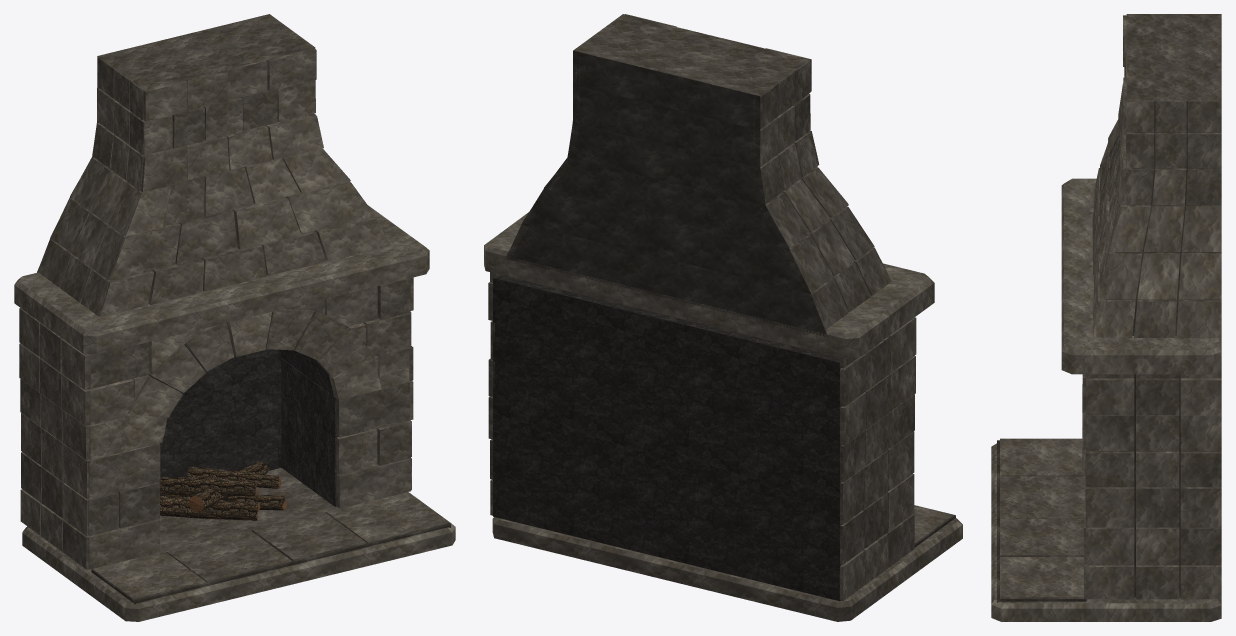
The model's file is Lareira-Com-Lenha.glb.
3 views of the same model, side by side, from view 1: azimuth 30°, elevation 25°; view 2: azimuth 150°, elevation 25°; view 3: azimuth 270°, elevation 25° (orthographic). The views are drawn at different scales.
Visible parts, largest first — view 1: Pedras da chaminé, Prateleira da lareira, Pedras dos pilares, Pedras laterais, Lajes da frente, Pedras do arco, Fundo da fornalha, Pedras acima do arco, Soleira, Chaminé, Laterais da fornalha, Lenha seca (+2 smaller); view 2: Fundo da fornalha, Chaminé, Pedras laterais, Pedras da chaminé, Prateleira da lareira, Soleira, Lajes da frente; view 3: Pedras laterais, Pedras da chaminé, Lajes da frente, Prateleira da lareira, Chaminé, Soleira, Pano de pedra, Pilares.
Part boxes in pixels (x1,y1,x2,y2): Pedras da chaminé: [37, 48, 390, 316]; Prateleira da lareira: [14, 205, 429, 354]; Pedras dos pilares: [87, 381, 410, 569]; Pedras laterais: [19, 277, 413, 569]; Lajes da frente: [91, 492, 448, 600]; Pedras do arco: [119, 309, 381, 452]; Fundo da fornalha: [159, 349, 281, 495]; Pedras acima do arco: [88, 278, 410, 459]; Soleira: [22, 492, 455, 621]; Chaminé: [45, 14, 315, 294]; Laterais da fornalha: [281, 358, 337, 506]; Lenha seca: [159, 461, 286, 520]; Fundo da fornalha: [493, 274, 841, 601]; Chaminé: [505, 14, 827, 337]; Pedras laterais: [488, 272, 916, 600]; Pedras da chaminé: [505, 14, 891, 333]; Prateleira da lareira: [484, 212, 934, 358]; Soleira: [492, 515, 962, 621]; Lajes da frente: [913, 505, 954, 544]; Pedras laterais: [1086, 371, 1221, 599]; Pedras da chaminé: [1092, 15, 1221, 341]; Lajes da frente: [1000, 438, 1085, 598]; Prateleira da lareira: [1061, 178, 1221, 374]; Chaminé: [1106, 14, 1221, 336]; Soleira: [991, 440, 1221, 621]; Pano de pedra: [1092, 374, 1201, 485]; Pilares: [1134, 486, 1180, 597].
Bounding box in the file's own units: 1.74 × 2.24 × 0.972.
5 materials, 5 textured.
